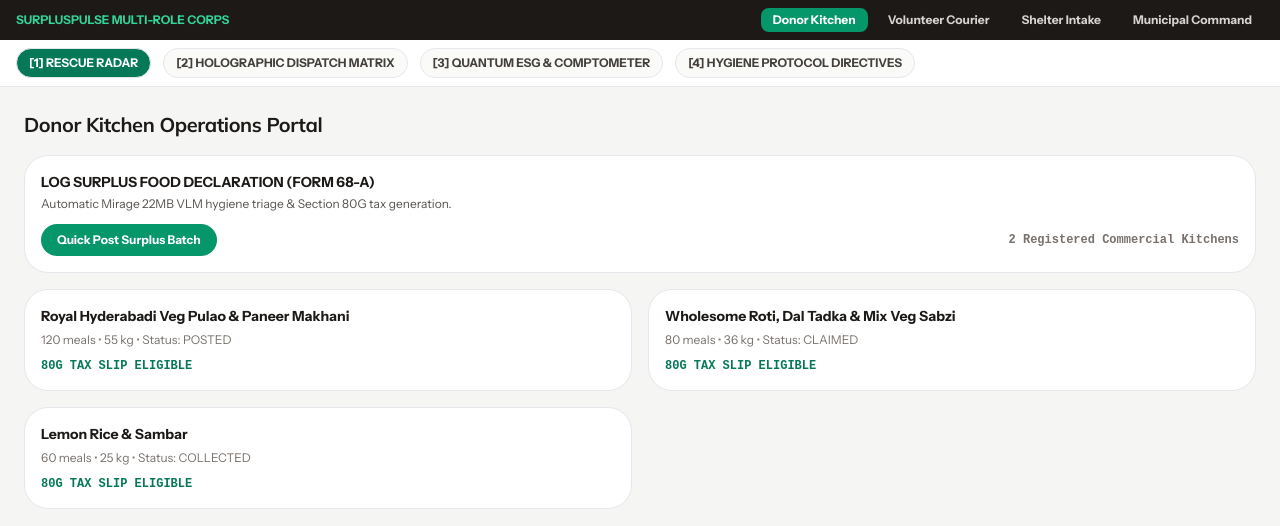
Test: SurplusPulse Frontend E2E Opaque-Box Test Suite (Tiers 1-4) › Tier 2: Boundary & Corner Cases › F4 Boundaries › T4_F4_04: supports rapid role toggling without React state errors or unhandled exceptions
Note: Rapidly toggle between all 4 roles
Click the button "Volunteer Courier" at (938, 20), box [876, 8, 1001, 32]
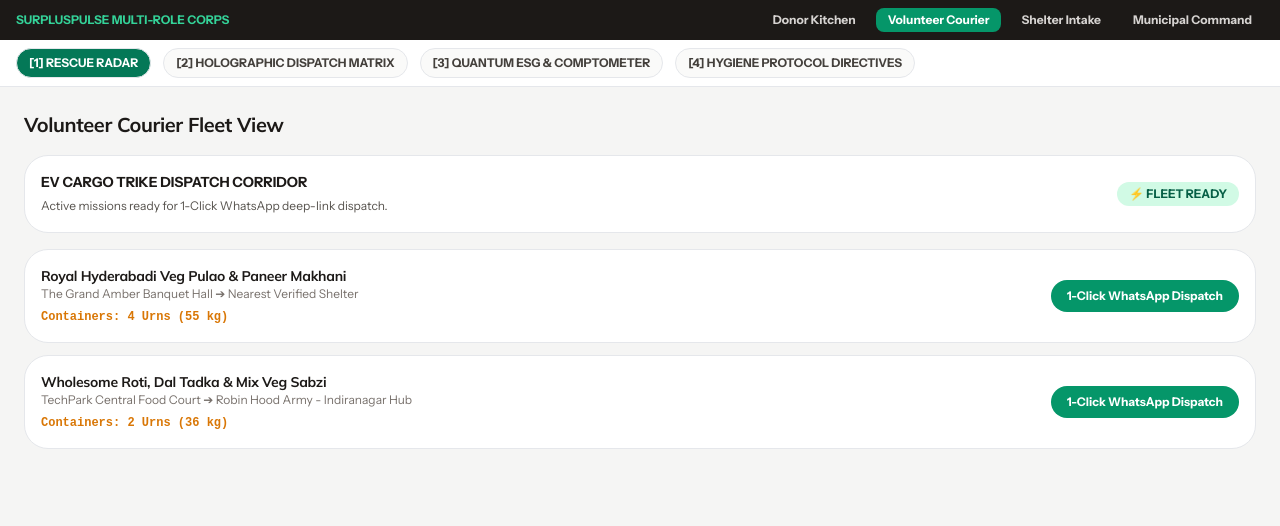
Expected: the element named "Volunteer Courier Dashboard" is shown
Click the button "Shelter Intake" at (1061, 20), box [1010, 8, 1113, 32]
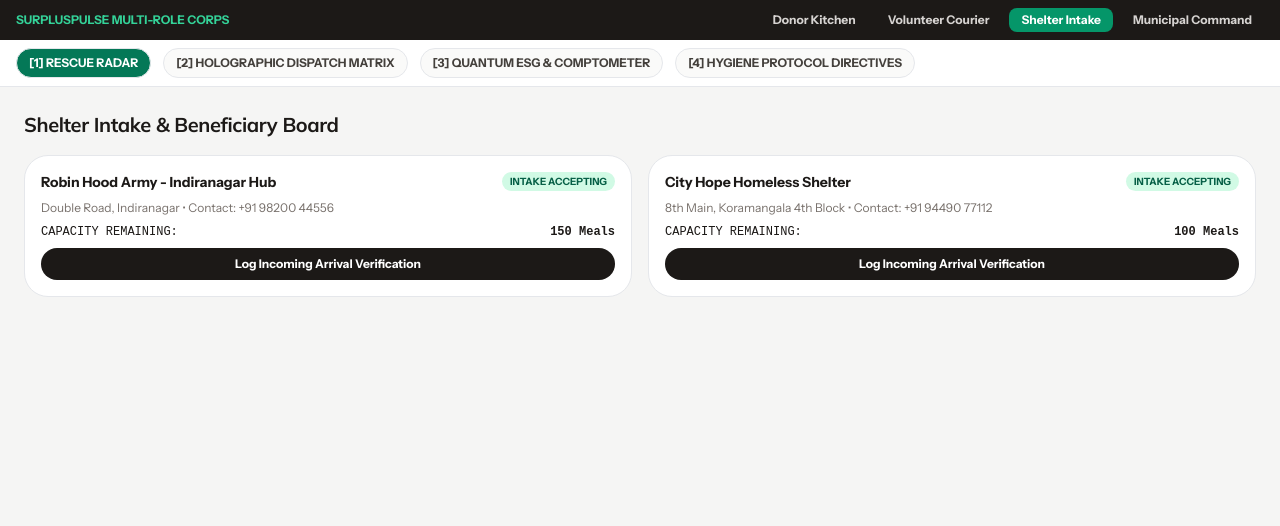
Expected: the element named "Shelter Intake Dashboard" is shown, [24, 111, 1256, 297]
Click the button "Municipal Command" at (1192, 20), box [1121, 8, 1264, 32]
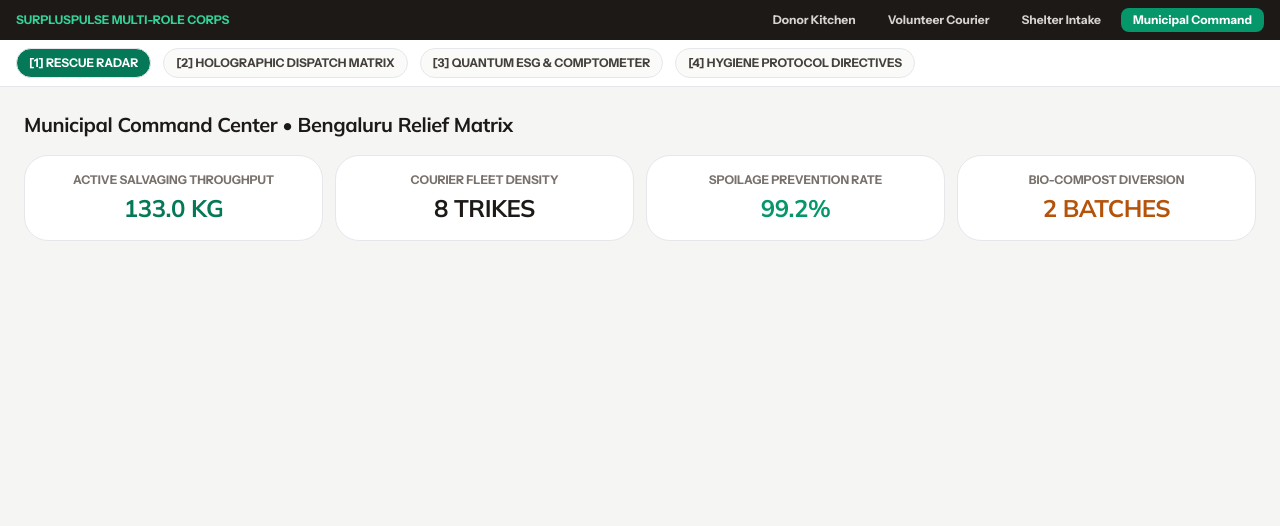
Expected: the element named "Municipal Command Dashboard" is shown, [24, 111, 1256, 241]
Click the button "Donor Kitchen" at (814, 20), box [761, 8, 868, 32]
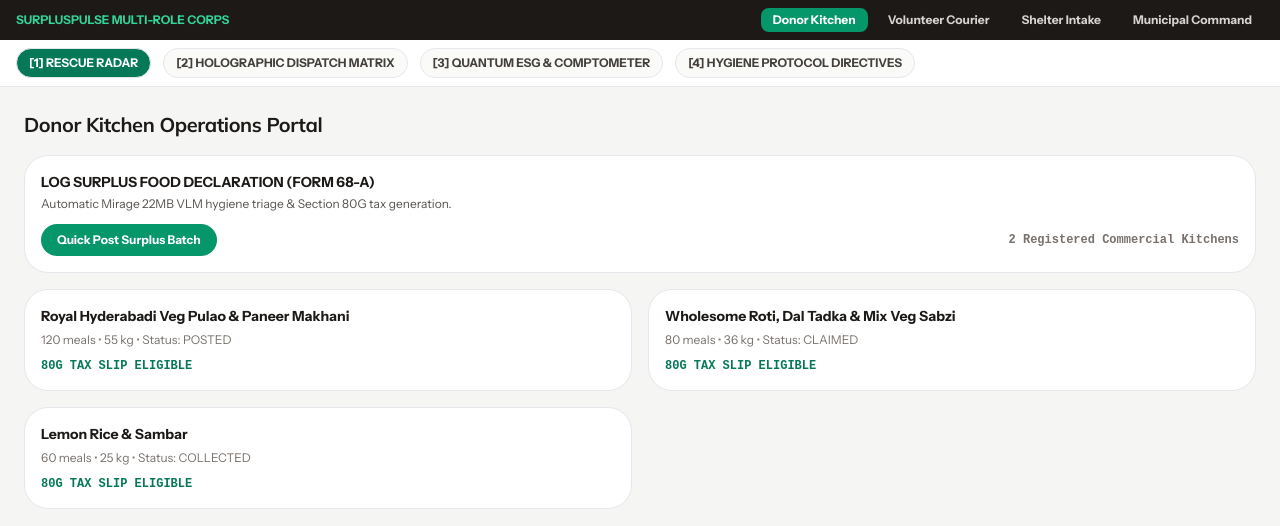
Expected: the element named "Donor Kitchen Dashboard" is shown
